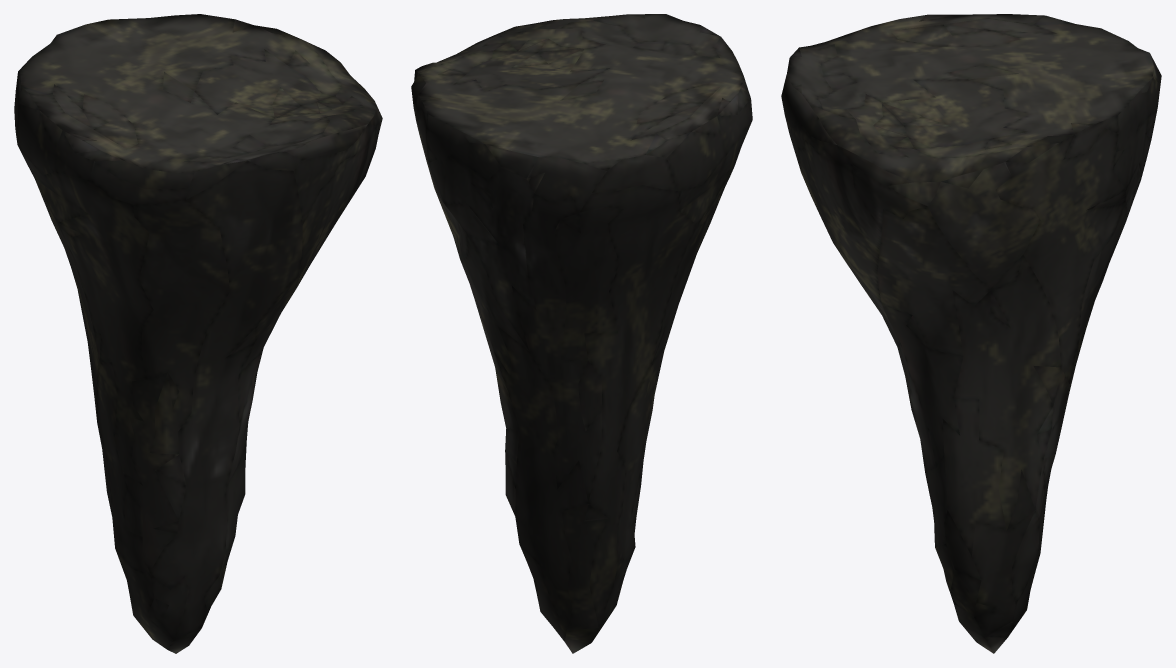
Rendered from big_stalagmite.gltf.
The picture shows the model from 3 angles, left to right: view 1: azimuth 30°, elevation 25°; view 2: azimuth 150°, elevation 25°; view 3: azimuth 270°, elevation 25°; orthographic projection. The views are drawn at different scales.
Visible parts, largest first — view 1: Icosphere; view 2: Icosphere; view 3: Icosphere.
Part boxes in pixels (box(x1,y1,x2,y2)): Icosphere: box(14, 14, 382, 653); Icosphere: box(411, 14, 752, 653); Icosphere: box(781, 14, 1161, 653).
Size of the model in its own units: 69.25 by 126 by 74.73.
1 material, 1 textured.
